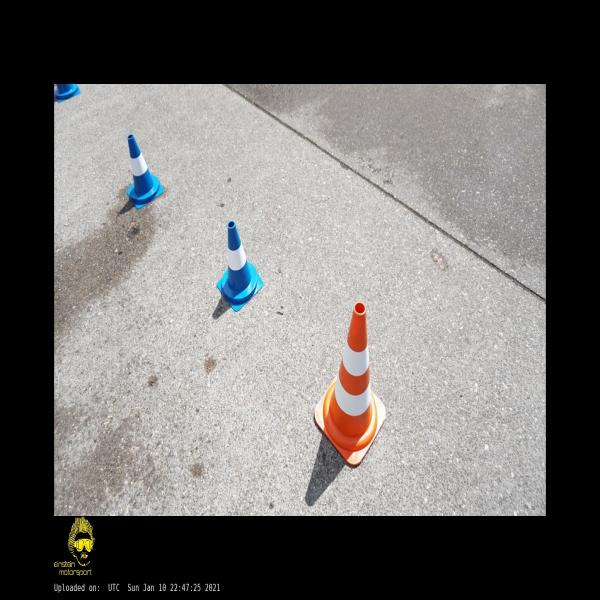blue_cone: (216, 220, 265, 312), (127, 134, 164, 210)
large_orange_cone: (314, 301, 385, 467)
